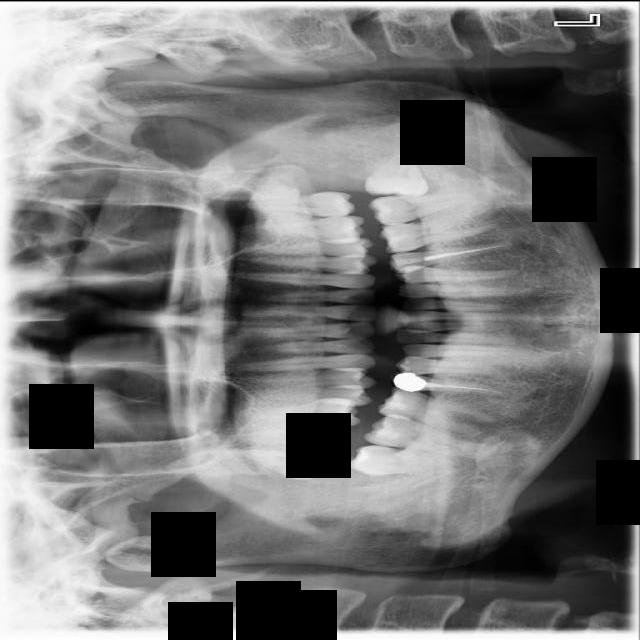3M ESPE Implant: (219, 439, 334, 483)
52: (374, 374, 432, 432), (361, 400, 417, 457), (276, 440, 336, 489), (366, 192, 419, 227), (378, 222, 427, 252), (312, 189, 356, 218), (300, 425, 348, 451), (390, 367, 428, 396), (332, 366, 377, 389), (330, 252, 376, 274), (388, 250, 429, 273)
73: (424, 237, 514, 265), (416, 375, 512, 397), (611, 8, 619, 20)
BioHorizons Implant: (241, 190, 356, 217)
Biomet 3i Implant: (364, 150, 432, 198)
Blue Sky Bio Implant: (367, 191, 479, 226)
Caries: (232, 422, 349, 452)
Implant: (363, 409, 477, 459)
Keystone Dental Implant: (346, 444, 448, 476)
